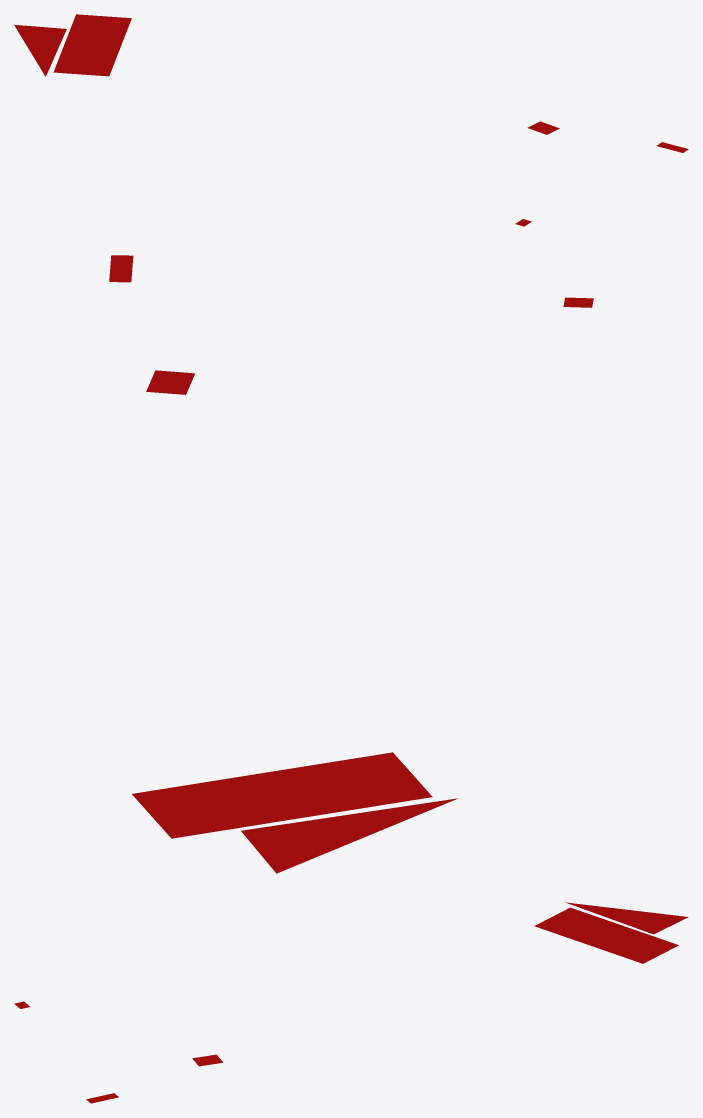
3 renders of one model, top to bottom at view 1: azimuth 30°, elevation 25°; view 2: azimuth 150°, elevation 25°; view 3: azimuth 270°, elevation 25°, orthographic. The views are drawn at different scales.
Size of the model in its own units: 147 by 0 by 209.
